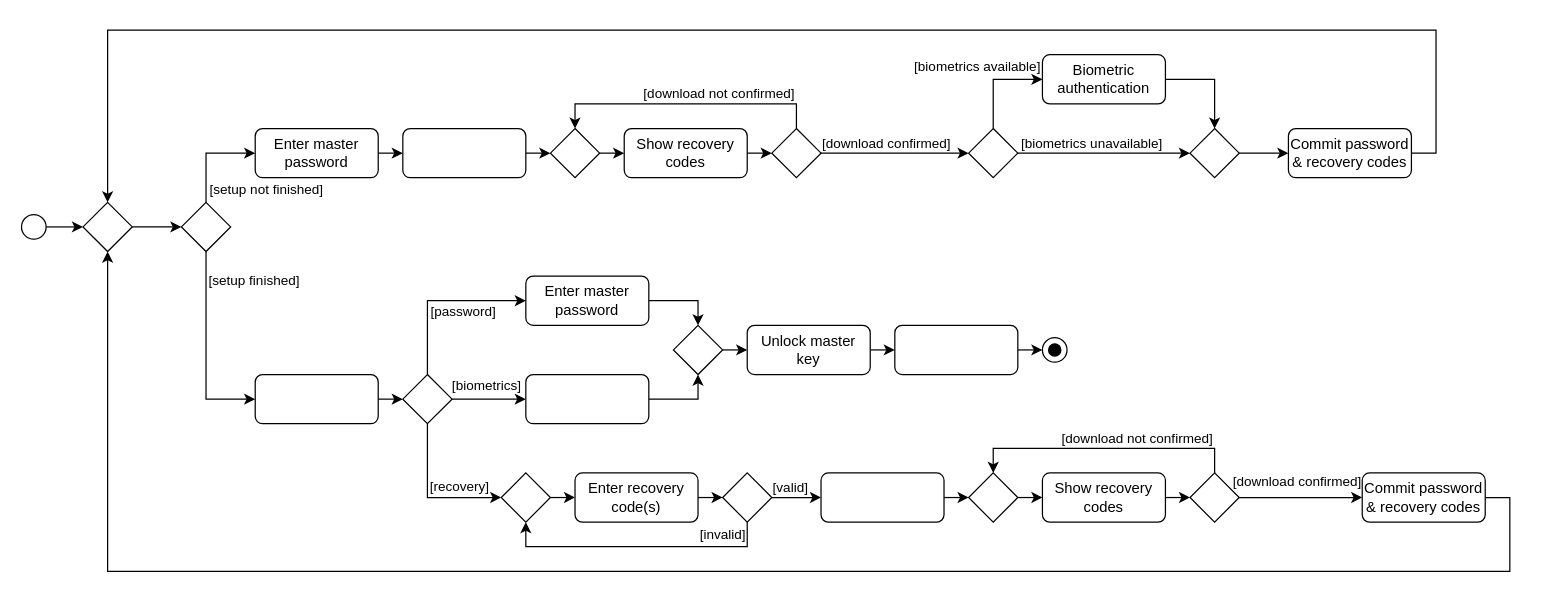
Image size: 1541x603. Some labels were removed from this diagram. The shapes that lost their labels are listed below. From the top down, each one's centre as x and y in pixels, then its label:
At point (464, 152): "Generate recovery codes".
At point (956, 349): "Continue to the app".
At point (316, 398): "Begin login".
At point (587, 398): "Authenticate with biometrics".
At point (882, 497): "Enter new master password".
